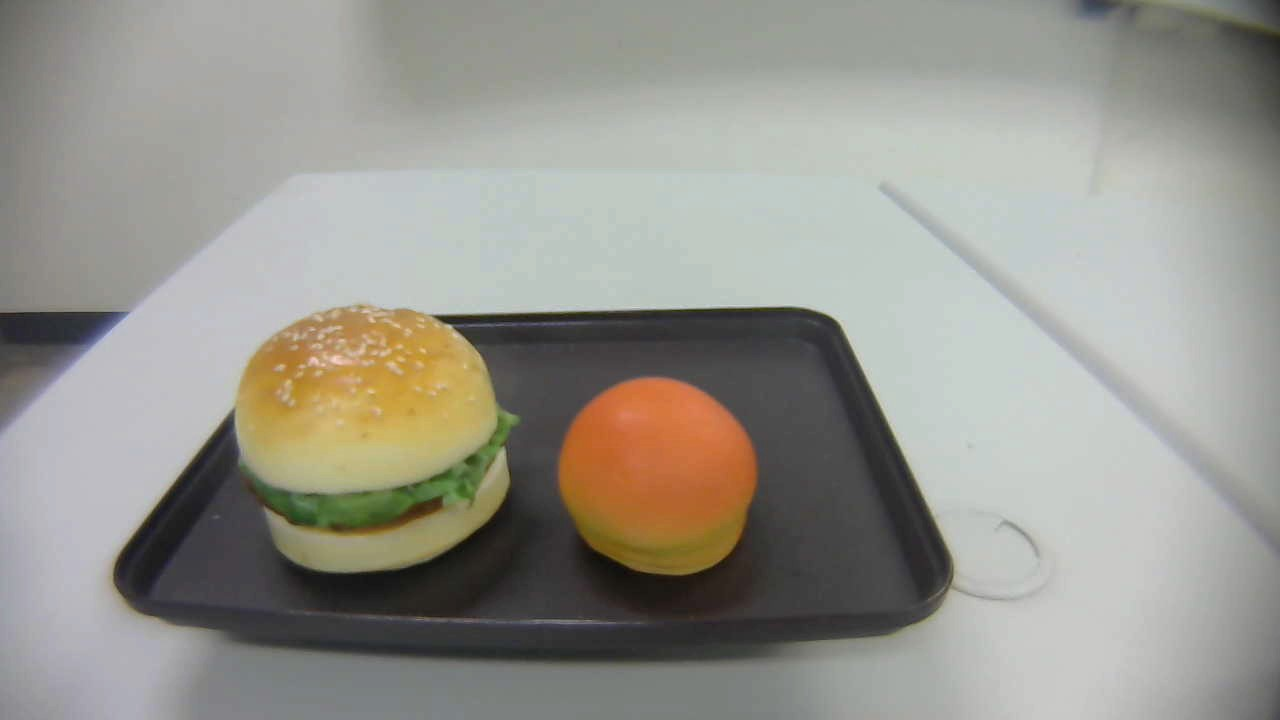bun: (558, 376, 757, 574)
hamburger: (236, 304, 518, 574)
